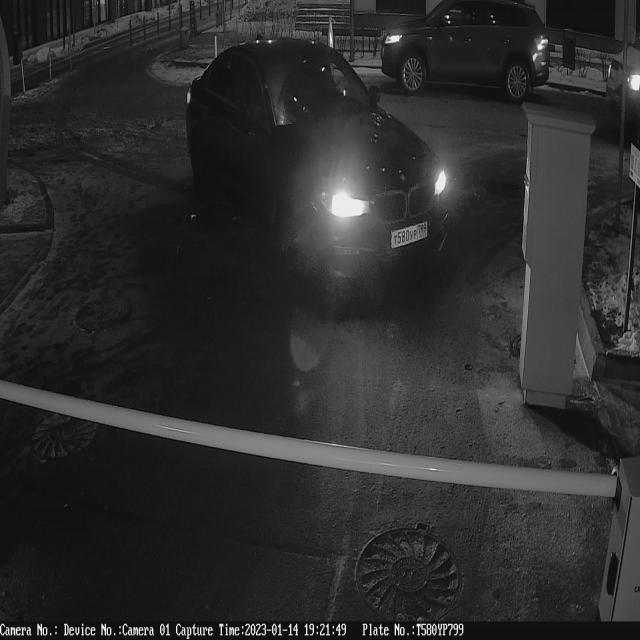car-plate-numbers: (388, 219, 431, 264)
